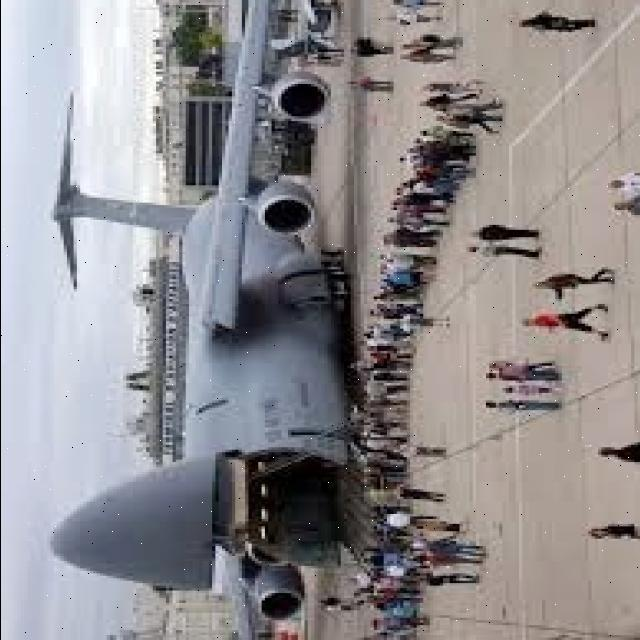C5: (0, 0, 392, 630)
